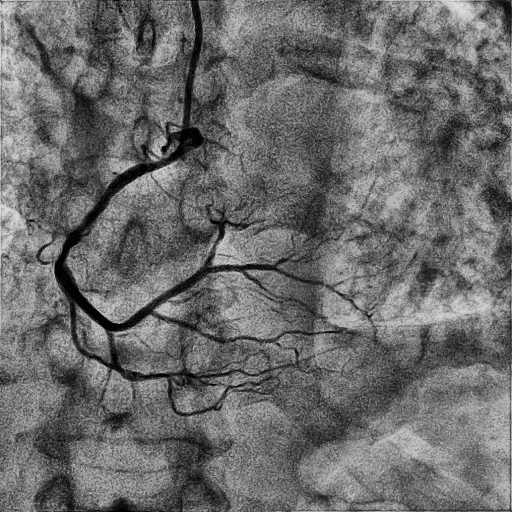pborca: (151, 263, 363, 312)
pda: (151, 310, 342, 344)
rca: (54, 148, 185, 331)
